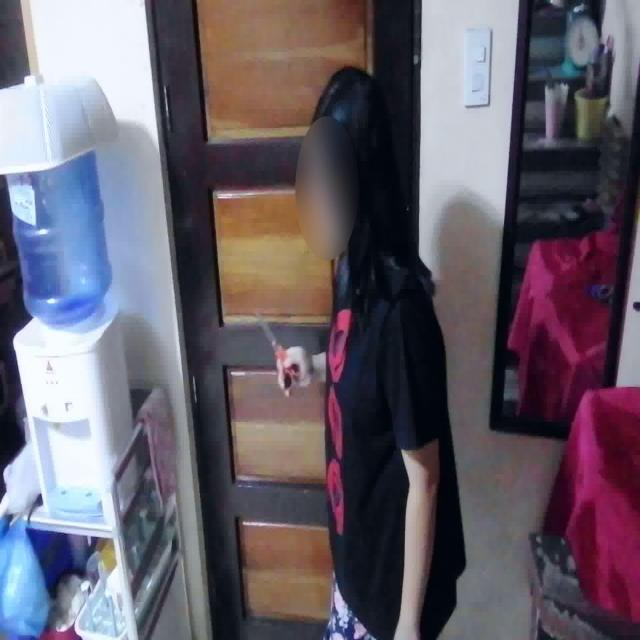scissor: (255, 310, 301, 390)
